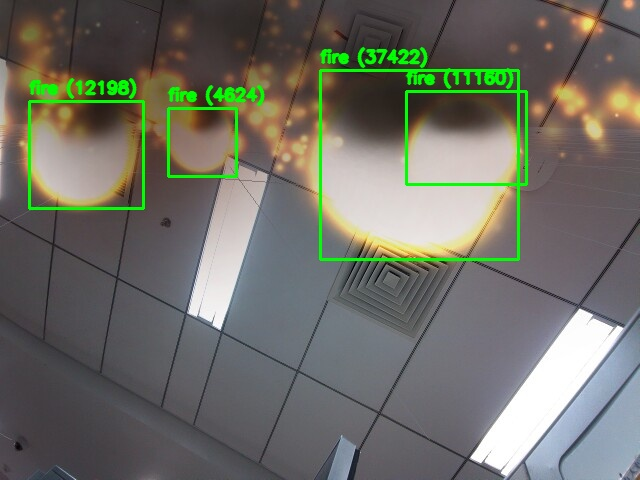fire: (320, 70, 518, 259), (29, 101, 143, 208), (406, 91, 526, 184), (168, 108, 236, 176)
